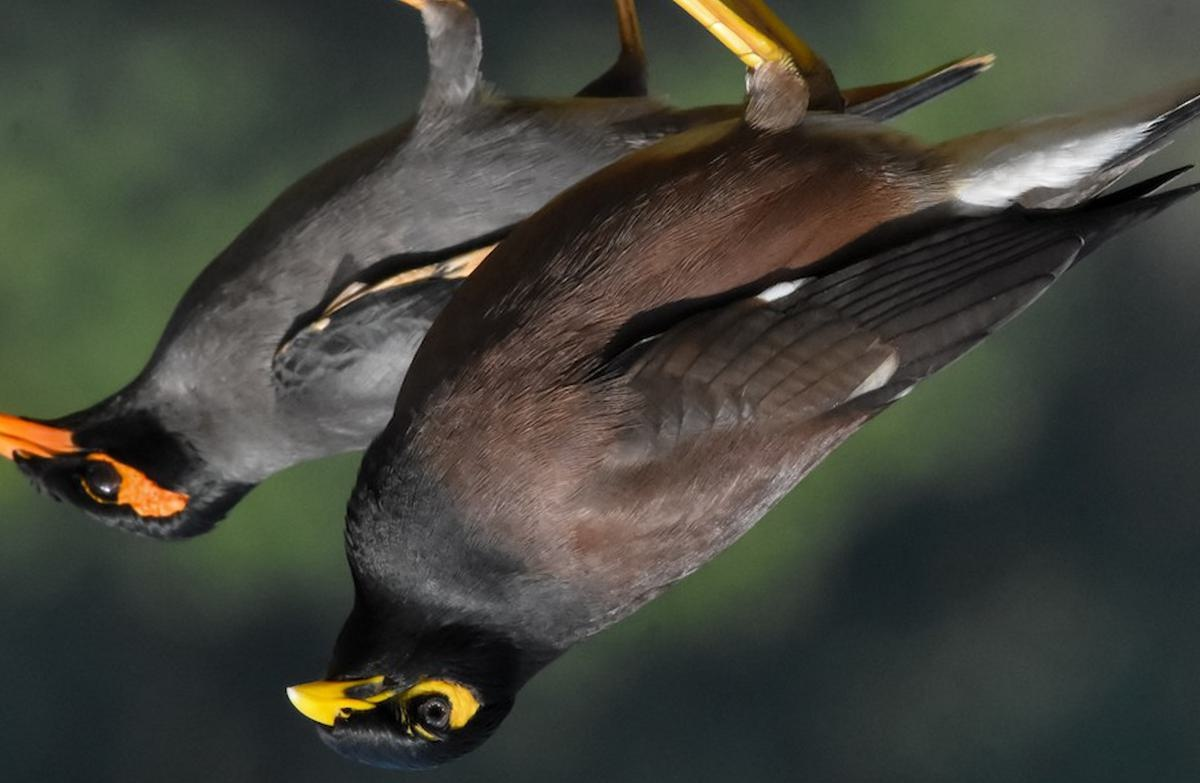myna: (270, 12, 1173, 771), (20, 77, 646, 544)
